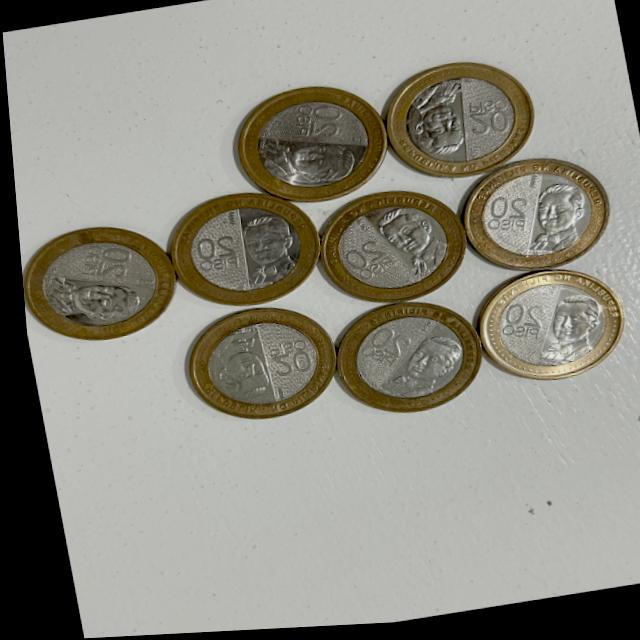20_New_Front: (65, 236, 156, 291), (462, 189, 543, 250), (183, 225, 251, 288), (344, 322, 417, 380), (482, 295, 550, 354), (280, 100, 353, 149), (255, 334, 320, 387), (457, 90, 513, 150), (338, 237, 390, 289)
